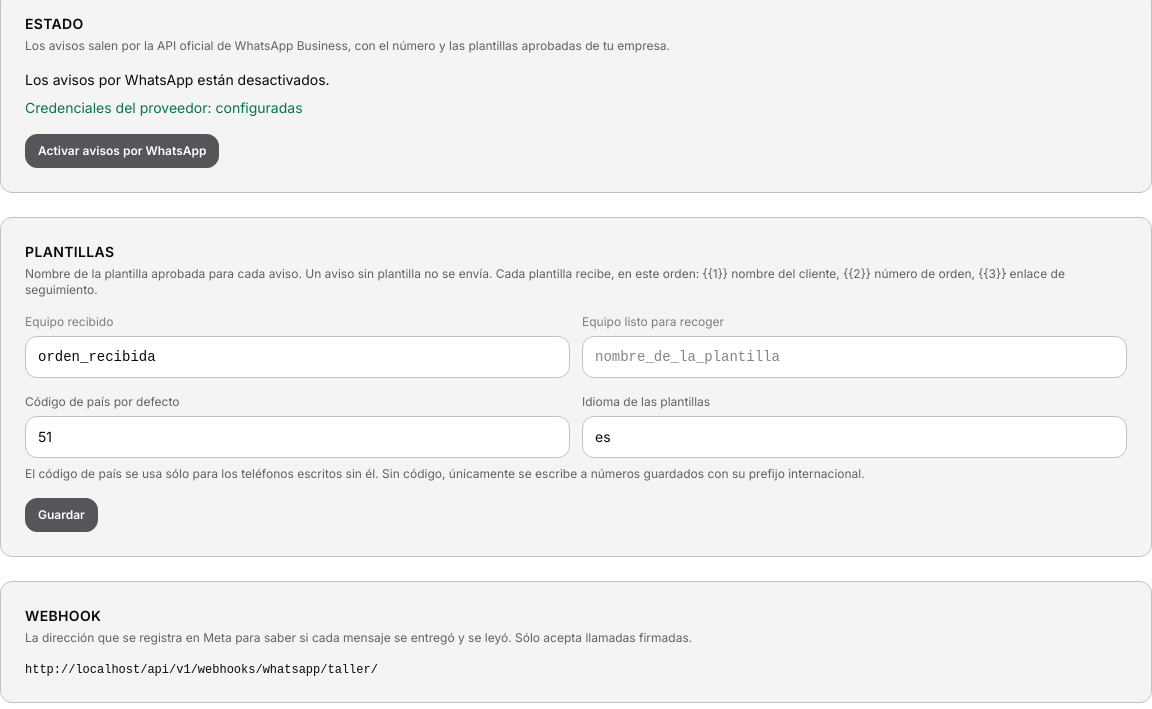
Test: a refusal from the server is shown as the server said it
The image size is (1152, 709).
Click the button "Activar avisos por WhatsApp" at (122,151), box [25, 134, 219, 168]
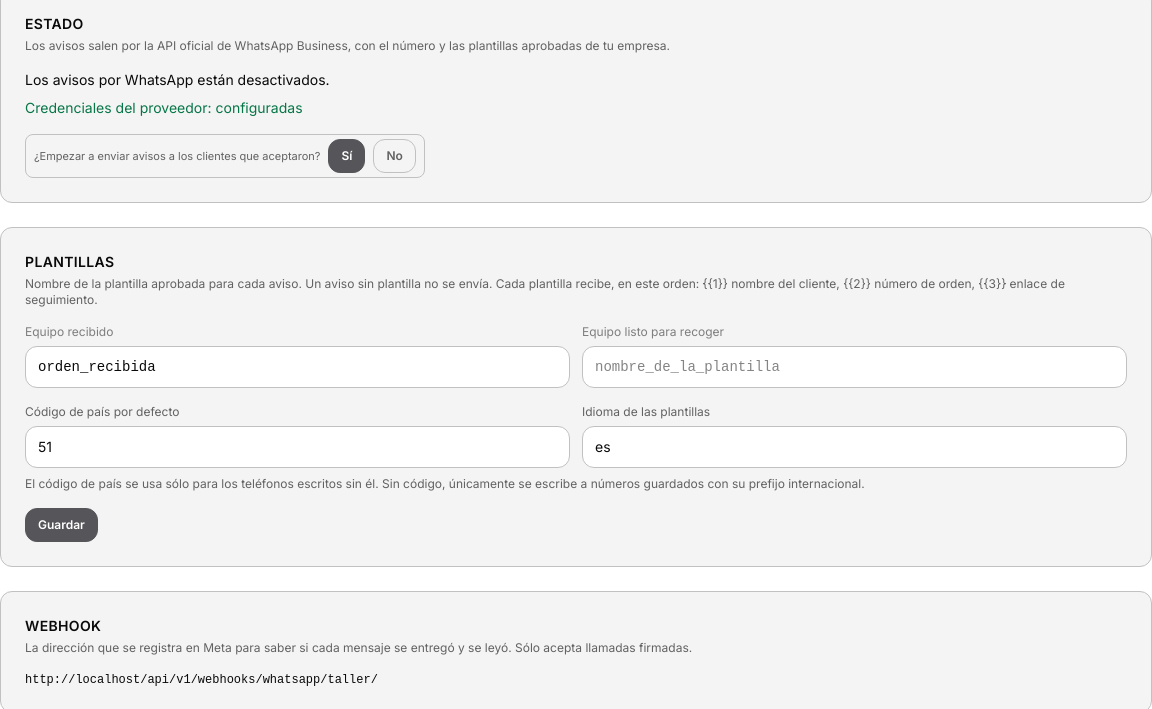
Click the button "Sí" at (347,156), box [328, 139, 365, 173]
(page scrolled)
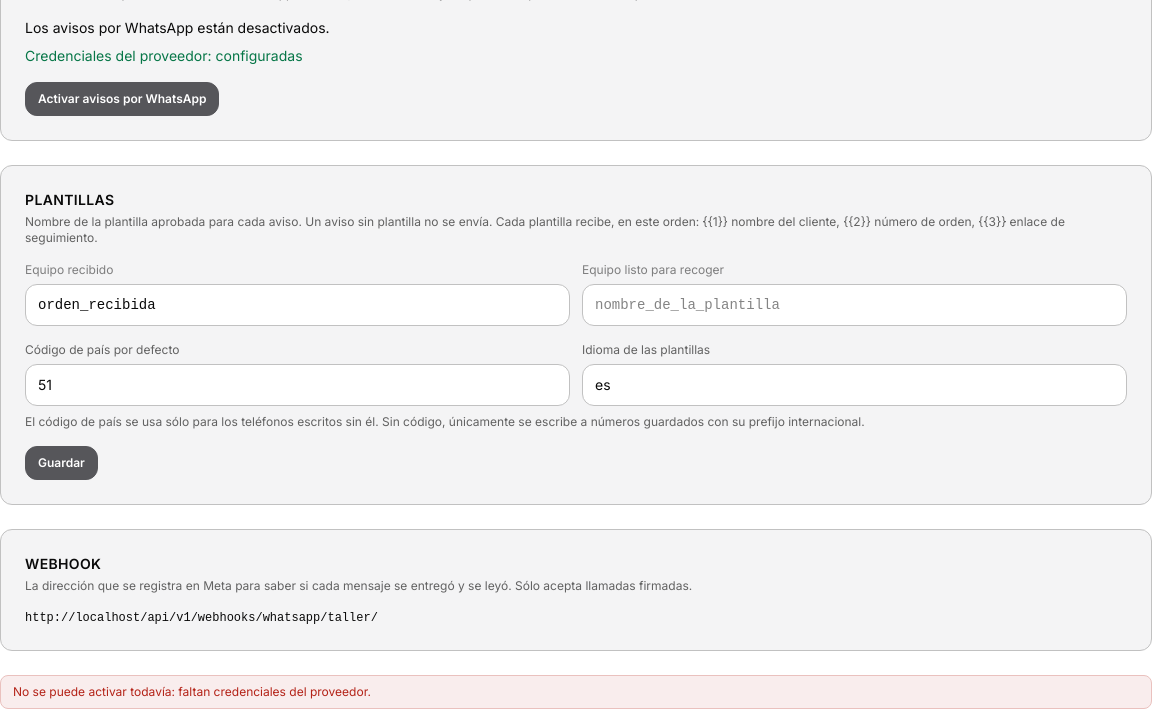
Expected: the text "faltan credenciales del proveedor" is shown, [13, 684, 371, 699]
